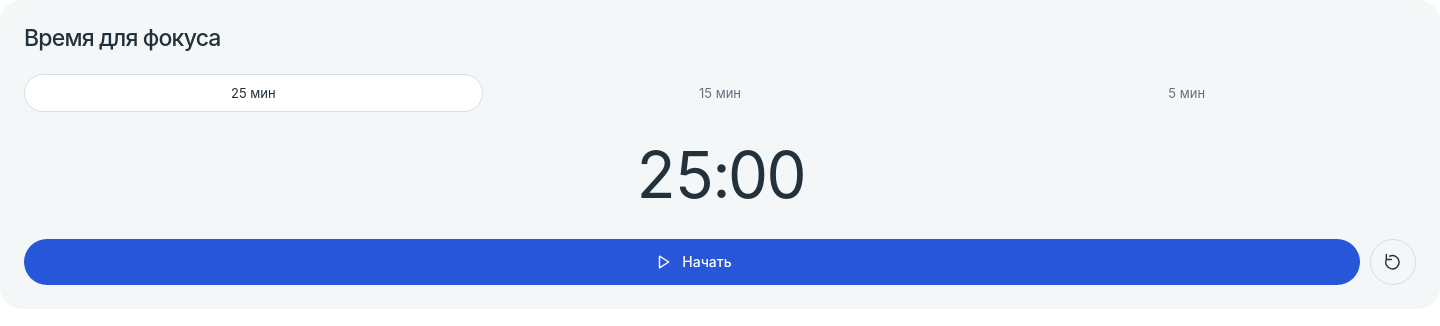
Test case: timer cleanup › resets a running session when a different duration is chosen
This screenshot has width=1440, height=326.
Click the button "Начать": (692, 262) [24, 239, 1360, 285]
Wait 5000 ms
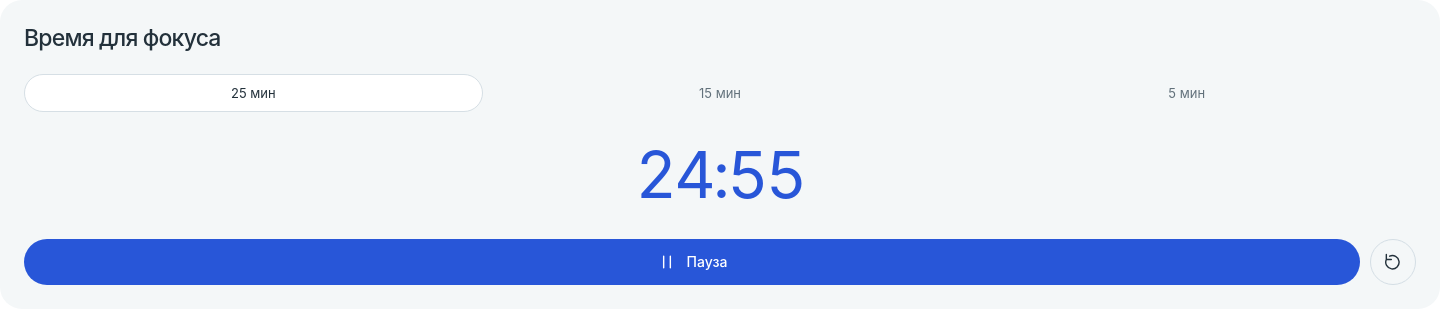
Click the button "15 мин": (720, 93) [491, 74, 949, 112]
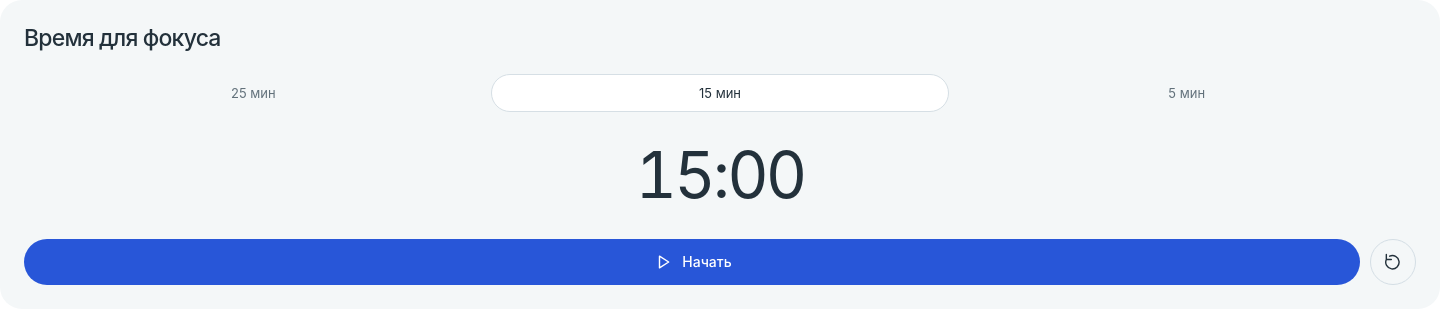
Check: the text "15:00" is shown, box [636, 136, 804, 213]
Check: the button "Начать" is shown, box [24, 239, 1360, 285]
